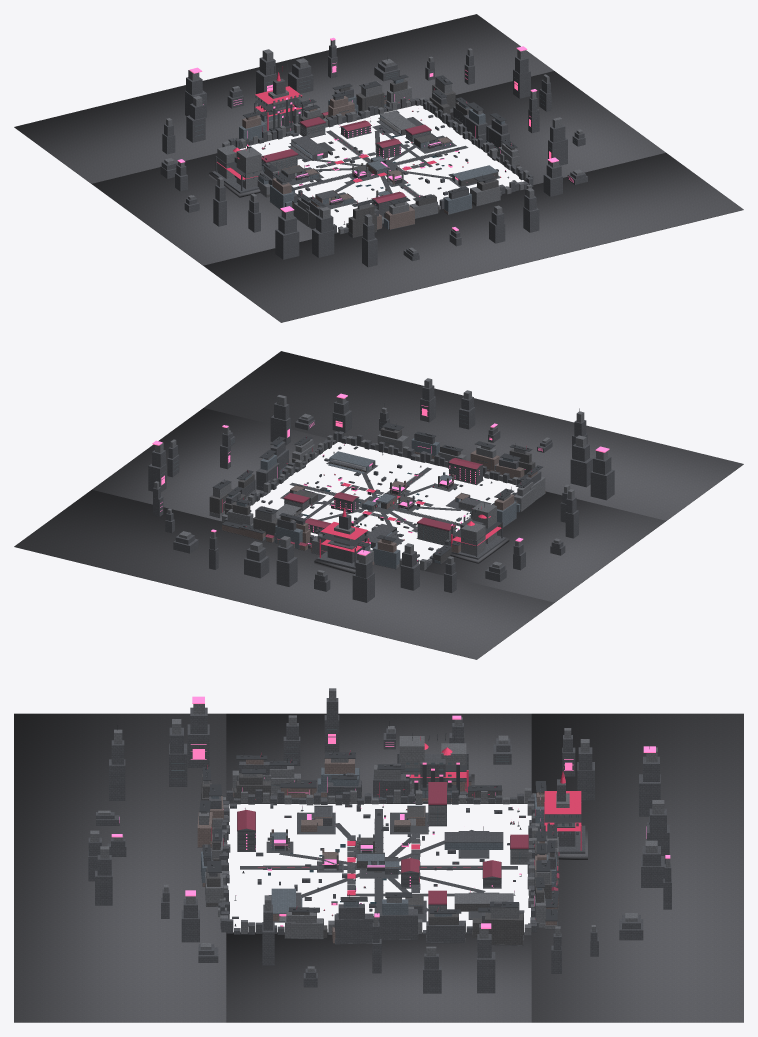
Rendered from yoichi-lod0.glb.
3 renders of one model, top to bottom at view 1: azimuth 30°, elevation 25°; view 2: azimuth 150°, elevation 25°; view 3: azimuth 270°, elevation 25°, orthographic. The views are drawn at different scales.
Parts seen in each view (by area): view 1: HB_yoichi_LOD0_terrain, HB_yoichi_LOD0_wall_alt, HB_yoichi_LOD0_wall, HB_yoichi_LOD0_trim, HB_yoichi_LOD0_wall_weathered, HB_yoichi_LOD0_wall_cool, HB_yoichi_LOD0_road, HB_yoichi_LOD0_wall_warm, HB_yoichi_LOD0_LANDMARK_1_wall, HB_yoichi_LOD0_roof, HB_yoichi_LOD0_emissive, HB_yoichi_LOD0_LANDMARK_0_trim (+1 smaller); view 2: HB_yoichi_LOD0_terrain, HB_yoichi_LOD0_wall_alt, HB_yoichi_LOD0_wall, HB_yoichi_LOD0_trim, HB_yoichi_LOD0_wall_cool, HB_yoichi_LOD0_wall_weathered, HB_yoichi_LOD0_wall_warm, HB_yoichi_LOD0_road, HB_yoichi_LOD0_LANDMARK_1_wall, HB_yoichi_LOD0_roof, HB_yoichi_LOD0_emissive, HB_yoichi_LOD0_LANDMARK_0_wall_alt (+1 smaller); view 3: HB_yoichi_LOD0_terrain, HB_yoichi_LOD0_wall_alt, HB_yoichi_LOD0_wall, HB_yoichi_LOD0_trim, HB_yoichi_LOD0_wall_weathered, HB_yoichi_LOD0_road, HB_yoichi_LOD0_wall_cool, HB_yoichi_LOD0_wall_warm, HB_yoichi_LOD0_roof, HB_yoichi_LOD0_LANDMARK_1_wall, HB_yoichi_LOD0_emissive, HB_yoichi_LOD0_LANDMARK_0_accent (+4 smaller).
Part boxes in pixels (x1,y1,x2,y2): HB_yoichi_LOD0_terrain: [14, 14, 743, 322]; HB_yoichi_LOD0_wall_alt: [160, 45, 587, 267]; HB_yoichi_LOD0_wall: [164, 40, 583, 252]; HB_yoichi_LOD0_trim: [192, 57, 529, 223]; HB_yoichi_LOD0_wall_weathered: [266, 79, 519, 237]; HB_yoichi_LOD0_wall_cool: [239, 78, 504, 229]; HB_yoichi_LOD0_road: [261, 111, 508, 224]; HB_yoichi_LOD0_wall_warm: [242, 96, 501, 229]; HB_yoichi_LOD0_LANDMARK_1_wall: [217, 145, 261, 188]; HB_yoichi_LOD0_roof: [261, 112, 431, 203]; HB_yoichi_LOD0_emissive: [177, 37, 573, 230]; HB_yoichi_LOD0_LANDMARK_0_trim: [255, 64, 302, 129]; HB_yoichi_LOD0_terrain: [14, 351, 743, 659]; HB_yoichi_LOD0_wall_alt: [148, 385, 614, 602]; HB_yoichi_LOD0_wall: [154, 378, 607, 575]; HB_yoichi_LOD0_trim: [212, 403, 579, 556]; HB_yoichi_LOD0_wall_cool: [228, 438, 520, 568]; HB_yoichi_LOD0_wall_weathered: [209, 427, 535, 563]; HB_yoichi_LOD0_wall_warm: [222, 450, 545, 564]; HB_yoichi_LOD0_road: [280, 452, 511, 545]; HB_yoichi_LOD0_LANDMARK_1_wall: [461, 502, 496, 555]; HB_yoichi_LOD0_roof: [265, 458, 482, 551]; HB_yoichi_LOD0_emissive: [152, 393, 609, 560]; HB_yoichi_LOD0_LANDMARK_0_wall_alt: [317, 513, 358, 569]; HB_yoichi_LOD0_terrain: [14, 713, 743, 1022]; HB_yoichi_LOD0_wall_alt: [88, 698, 671, 993]; HB_yoichi_LOD0_wall: [90, 688, 670, 971]; HB_yoichi_LOD0_trim: [117, 721, 649, 926]; HB_yoichi_LOD0_wall_weathered: [201, 773, 558, 945]; HB_yoichi_LOD0_road: [234, 806, 521, 926]; HB_yoichi_LOD0_wall_cool: [201, 767, 556, 943]; HB_yoichi_LOD0_wall_warm: [197, 758, 558, 943]; HB_yoichi_LOD0_roof: [237, 782, 559, 904]; HB_yoichi_LOD0_LANDMARK_1_wall: [399, 736, 466, 788]; HB_yoichi_LOD0_emissive: [111, 696, 670, 928]; HB_yoichi_LOD0_LANDMARK_0_accent: [544, 767, 581, 850].
Size of the model in its own units: 722 by 92.99 by 722.
Materials: 15 (12 with a texture image).
